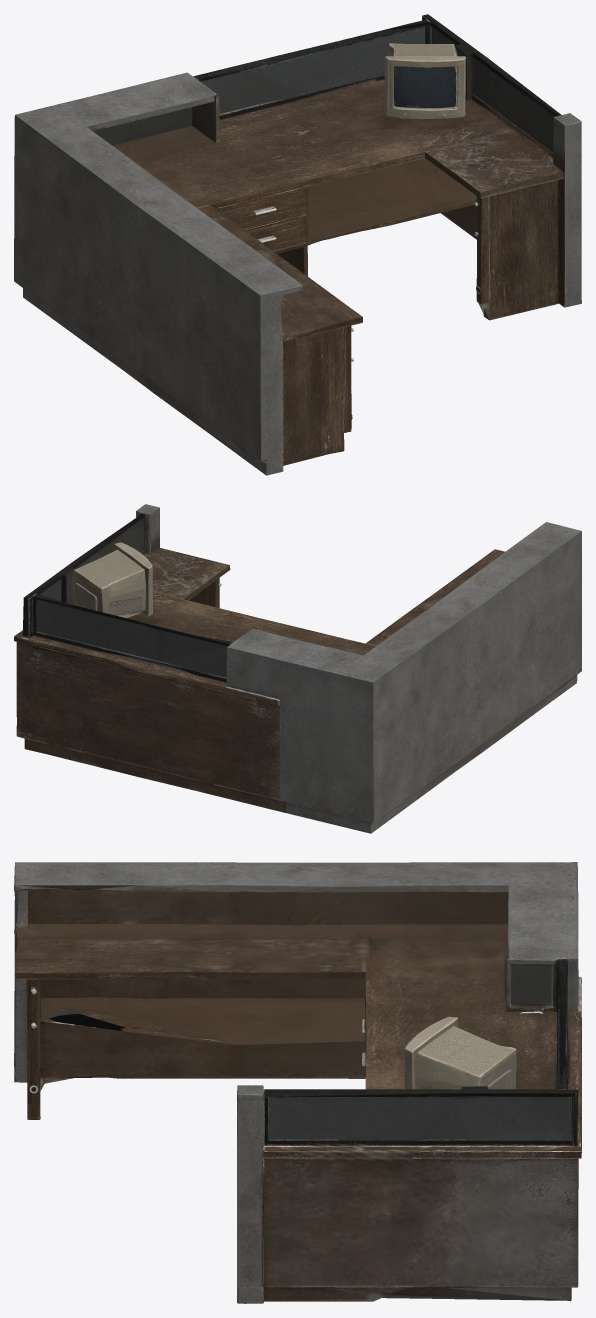
File: reception_desk_14k.glb
The picture shows the model from 3 angles, top to bottom: view 1: azimuth 30°, elevation 25°; view 2: azimuth 150°, elevation 25°; view 3: azimuth 270°, elevation 25°; orthographic projection. The views are drawn at different scales.
Visible parts, largest first — view 1: output_unwrapped; view 2: output_unwrapped; view 3: output_unwrapped.
Part boxes in pixels (box(x1,y1,x2,y2)): output_unwrapped: box(14, 14, 581, 475); output_unwrapped: box(14, 504, 581, 833); output_unwrapped: box(14, 862, 581, 1303).
Bounding box in the file's own units: 1.88 × 0.855 × 1.9.
Materials: 1 (1 with a texture image).
